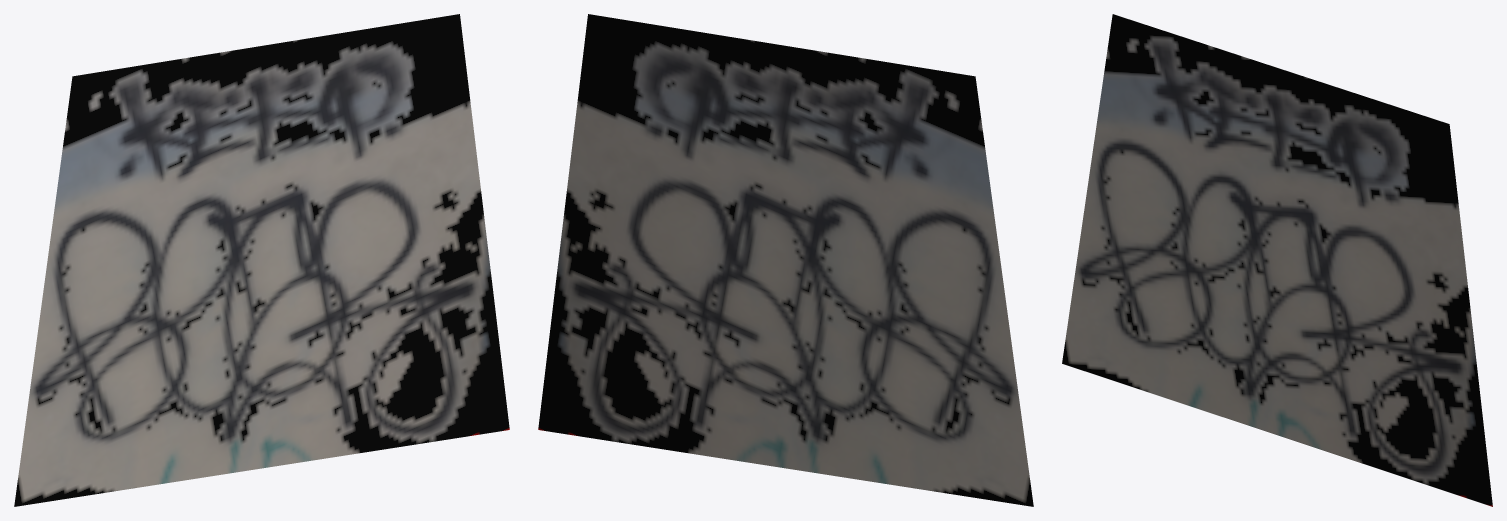
Rendered from graffiti_3.FBX.
3 views of the same model, side by side, from view 1: azimuth 30°, elevation 25°; view 2: azimuth 150°, elevation 25°; view 3: azimuth 330°, elevation 25° (orthographic). The views are drawn at different scales.
Visible parts, largest first — view 1: graffiti_2; view 2: graffiti_2; view 3: graffiti_2.
Boxes of the visible parts, x1=… form: graffiti_2: x1=14, y1=14, x2=509, y2=506; graffiti_2: x1=538, y1=14, x2=1033, y2=506; graffiti_2: x1=1062, y1=14, x2=1492, y2=506.
Bounding box in the file's own units: 35.84 × 31.8 × 1.06e-05.
